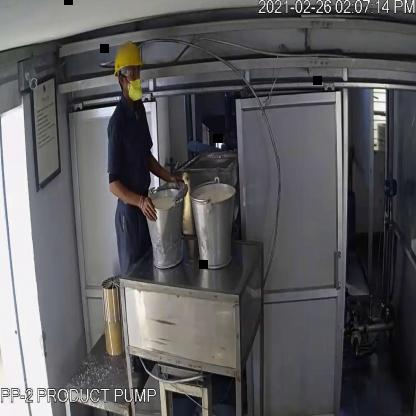helmet: (111, 38, 149, 78)
